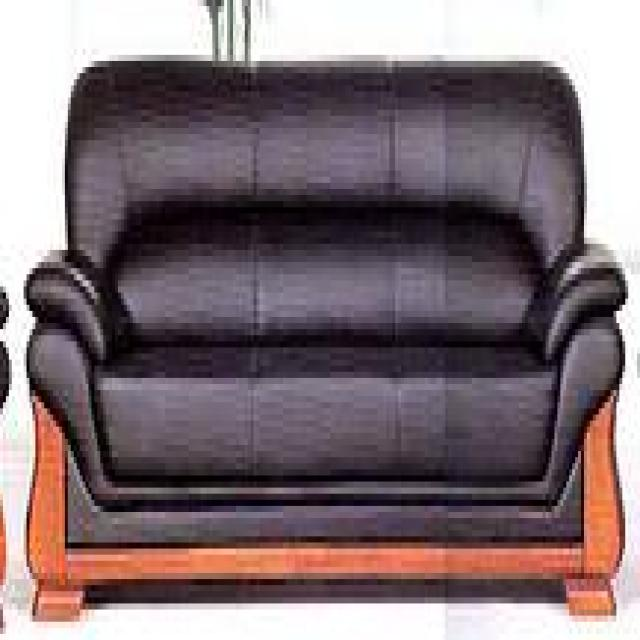sofa: (23, 54, 626, 622)
